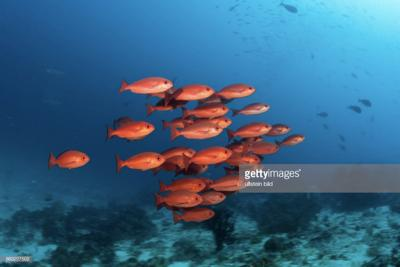Lutjanidae -Snappers-: (42, 142, 95, 177), (112, 149, 166, 174), (149, 185, 205, 209), (114, 73, 174, 95), (102, 116, 157, 140), (166, 118, 223, 141), (213, 79, 257, 99)
